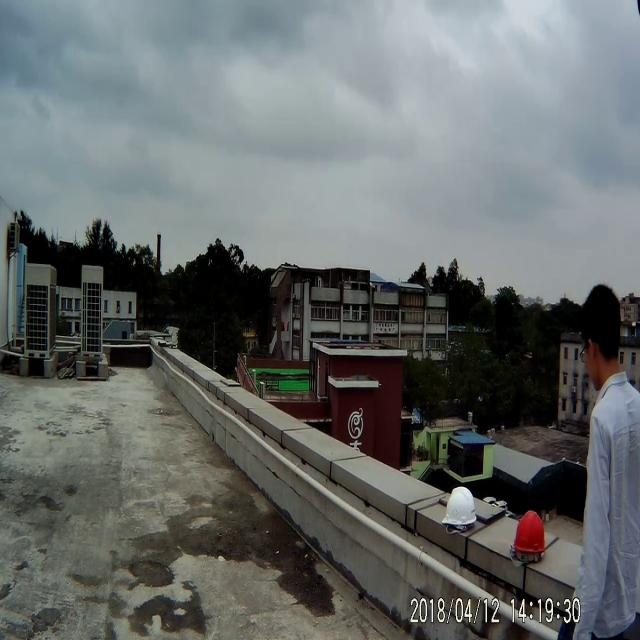Sin_Casco_Mascarrilla: (580, 284, 622, 380)
